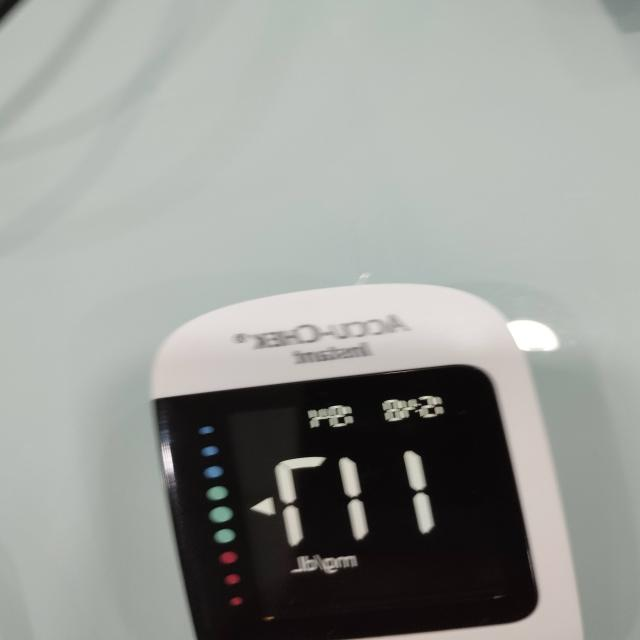gluco: (150, 285, 582, 640)
